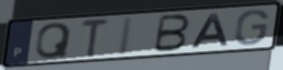A: (189, 12, 231, 49)
B: (152, 13, 192, 54)
G: (233, 8, 271, 48)
I: (116, 16, 136, 57)
Q: (34, 22, 74, 61)
T: (80, 18, 110, 59)
